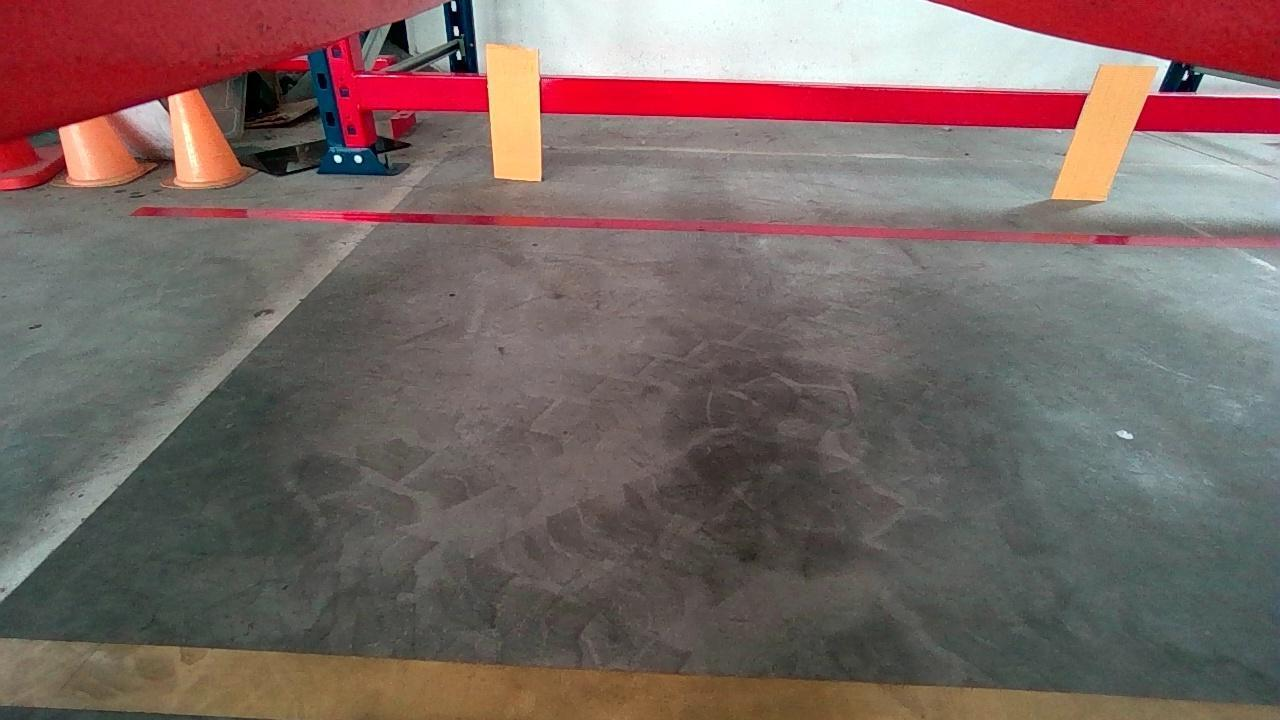h_rack: (356, 76, 1279, 133)
orange_strip: (1053, 64, 1158, 199), (488, 42, 540, 178)
red_line: (132, 202, 1280, 247)
yellow_line: (0, 637, 1279, 720)
